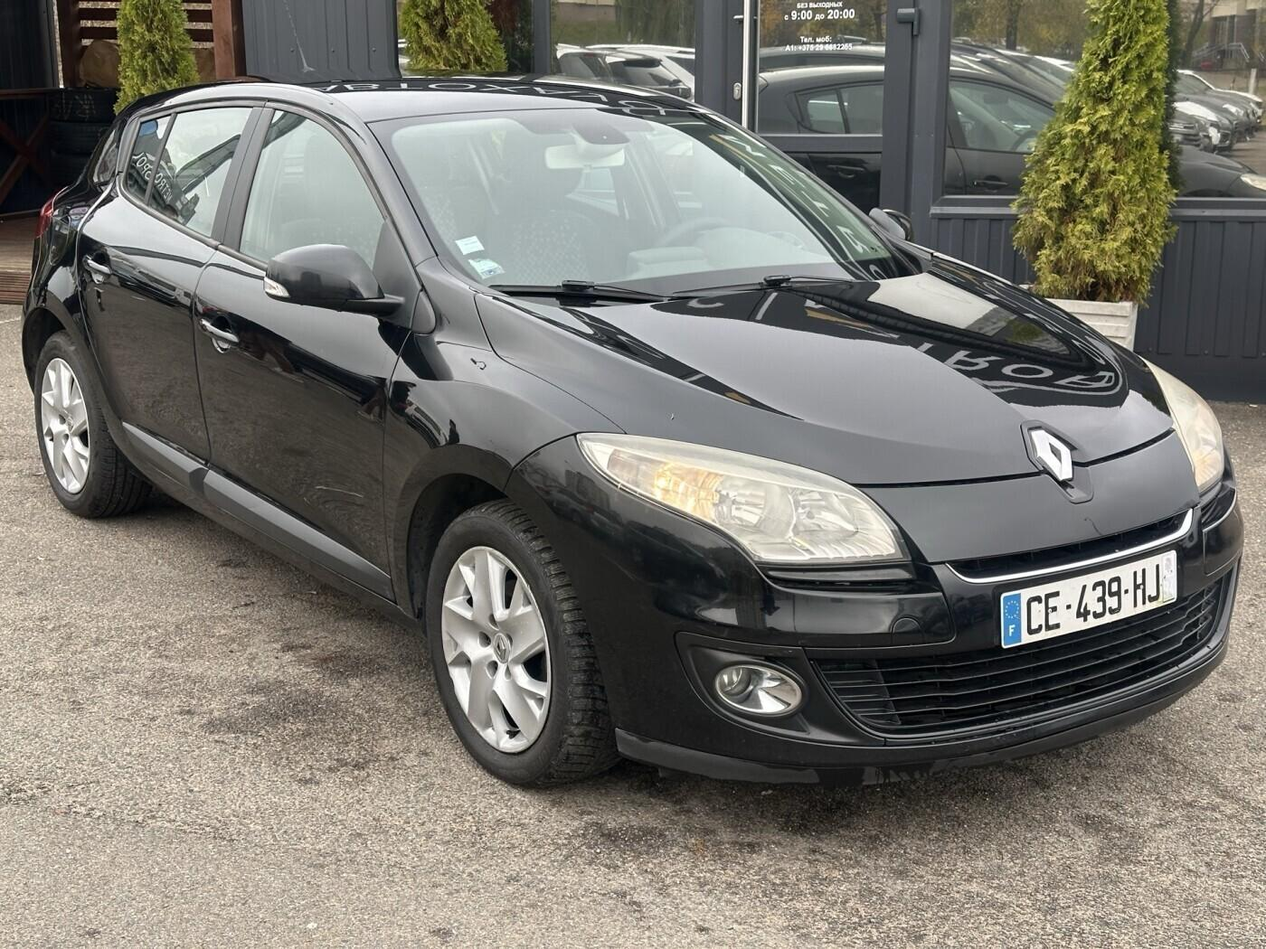Megane_2012-2014: (19, 70, 1247, 799)
